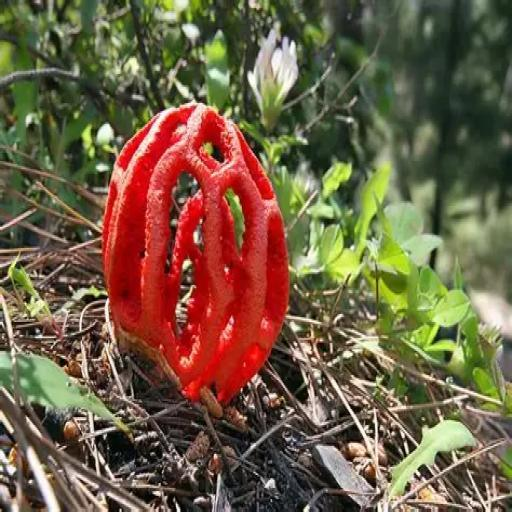mushroom: (100, 96, 297, 420)
